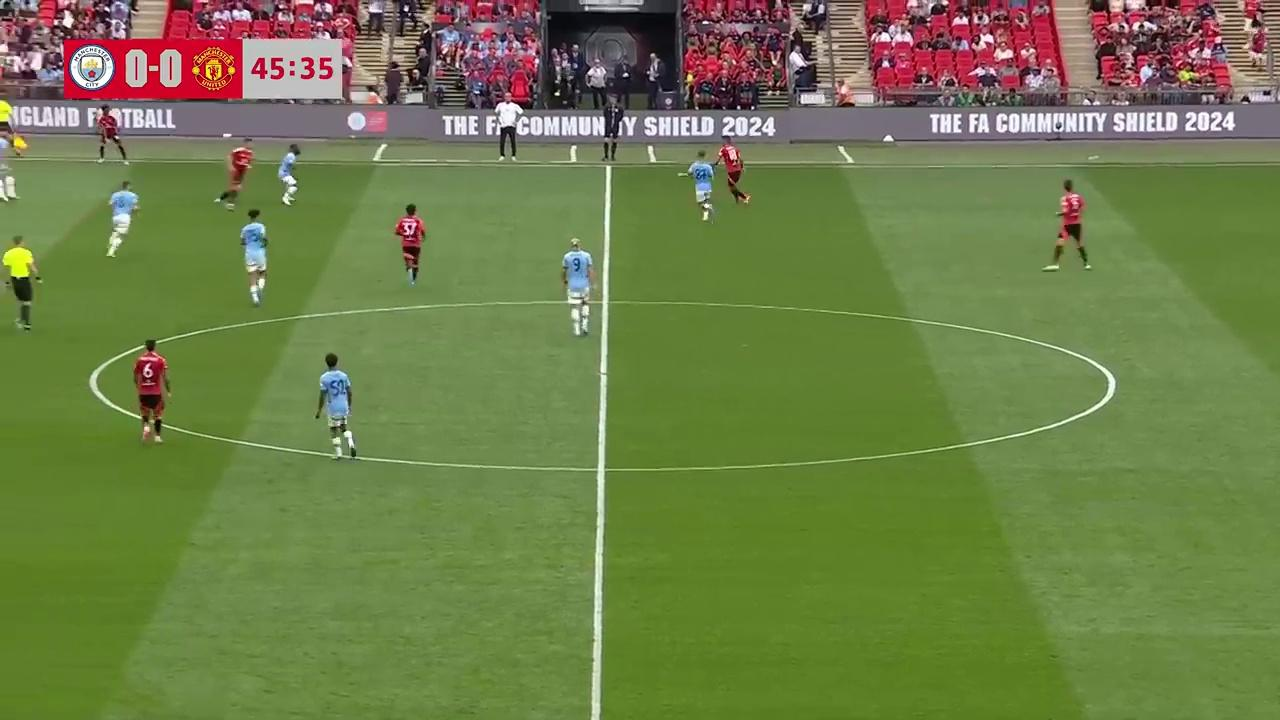player: (314, 352, 359, 461), (1045, 179, 1091, 271), (133, 339, 171, 445), (560, 237, 595, 336), (215, 136, 255, 210), (239, 208, 269, 306), (104, 179, 139, 258), (393, 203, 426, 286), (683, 152, 715, 222), (719, 137, 749, 206), (95, 107, 129, 164), (277, 144, 299, 205), (0, 149, 19, 203)
referee: (2, 235, 42, 332)
